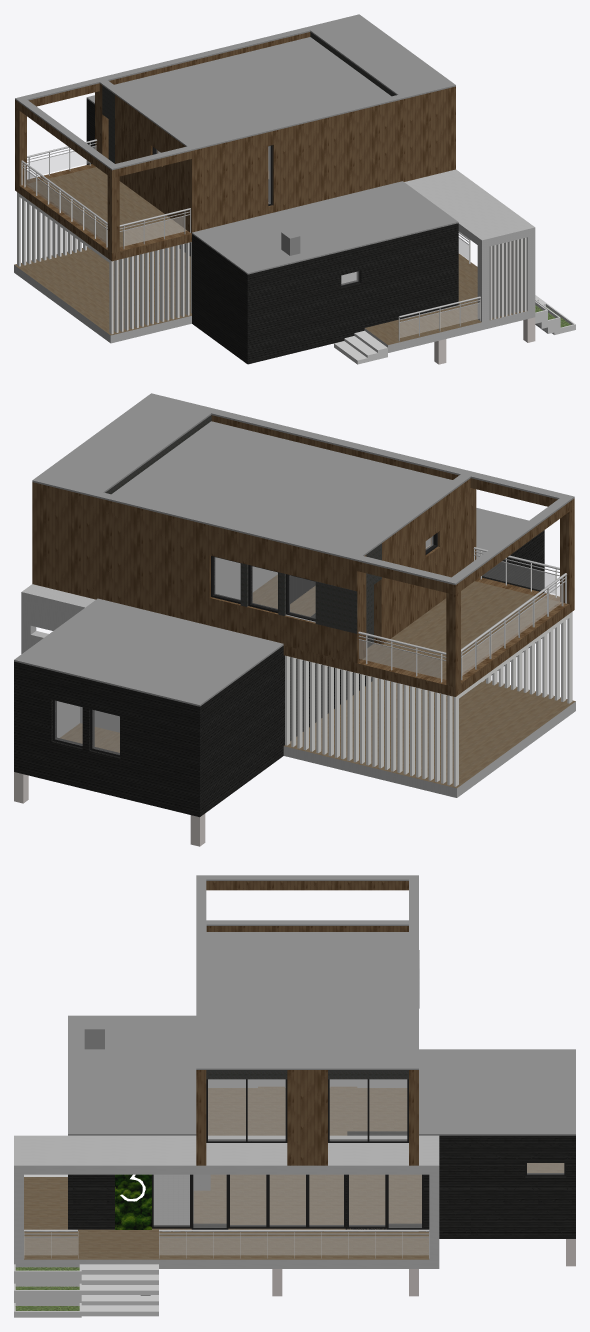
The model's file is Module1+2+3+4+5.glb.
3 views of the same model, one above another, from view 1: azimuth 30°, elevation 25°; view 2: azimuth 150°, elevation 25°; view 3: azimuth 270°, elevation 25° (orthographic). The views are drawn at different scales.
Parts seen in each view (by area): view 1: Этаж по умолчанию, Светлое дерево, Темное дерево, Пол деревянное покрытие, Сталь, углеродистая, Штукатурка, Стекло, Бетон - Керамзитобетонные блоки, DEFAULT, Сталь ASTM A36, Металл - Стальной лист, полированный, Бетон, монолитный (+1 smaller); view 2: Этаж по умолчанию, Светлое дерево, Темное дерево, Сталь, углеродистая, Пол деревянное покрытие, Стекло, Штукатурка, Сталь ASTM A36, Черный, DEFAULT, Металл - Стальной лист, полированный, Бетон, монолитный; view 3: Этаж по умолчанию, Пол деревянное покрытие, Стекло, Штукатурка, Темное дерево, Светлое дерево, Бетон - Керамзитобетонные блоки, Черный, DEFAULT, Живая стена, Пол плитка, Сталь ASTM A36 (+3 smaller).
Part boxes in pixels (x1,y1,x2,y2): Этаж по умолчанию: (15, 14, 546, 332); Светлое дерево: (15, 32, 455, 261); Темное дерево: (86, 99, 458, 364); Пол деревянное покрытие: (14, 167, 527, 344); Сталь, углеродистая: (17, 192, 526, 334); Штукатурка: (14, 146, 535, 352); Стекло: (25, 146, 479, 337); Бетон - Керамзитобетонные блоки: (334, 266, 575, 364); DEFAULT: (21, 139, 480, 322); Сталь ASTM A36: (102, 32, 396, 163); Металл - Стальной лист, полированный: (21, 142, 480, 341); Бетон, монолитный: (434, 317, 535, 364); Этаж по умолчанию: (14, 393, 574, 706); Светлое дерево: (32, 415, 574, 696); Темное дерево: (14, 530, 544, 817); Сталь, углеродистая: (285, 611, 572, 786); Пол деревянное покрытие: (60, 574, 575, 788); Стекло: (55, 536, 561, 754); Штукатурка: (21, 538, 575, 797); Сталь ASTM A36: (105, 415, 381, 647); Черный: (53, 533, 437, 756); DEFAULT: (286, 547, 567, 660); Металл - Стальной лист, полированный: (366, 549, 566, 682); Бетон, монолитный: (14, 772, 205, 846); Этаж по умолчанию: (68, 875, 575, 1135); Пол деревянное покрытие: (24, 1086, 564, 1259); Стекло: (24, 1079, 563, 1254); Штукатурка: (14, 1079, 439, 1268); Темное дерево: (68, 1131, 575, 1295); Светлое дерево: (196, 881, 418, 1165); Бетон - Керамзитобетонные блоки: (14, 1174, 158, 1317); Черный: (152, 1079, 565, 1229); DEFAULT: (24, 1229, 429, 1237); Живая стена: (115, 1174, 151, 1229); Пол плитка: (153, 1174, 193, 1224); Сталь ASTM A36: (206, 950, 419, 1079).
Bounding box in the file's own units: 15.19 × 7.45 × 16.65.
Materials: 21 (11 with a texture image).
